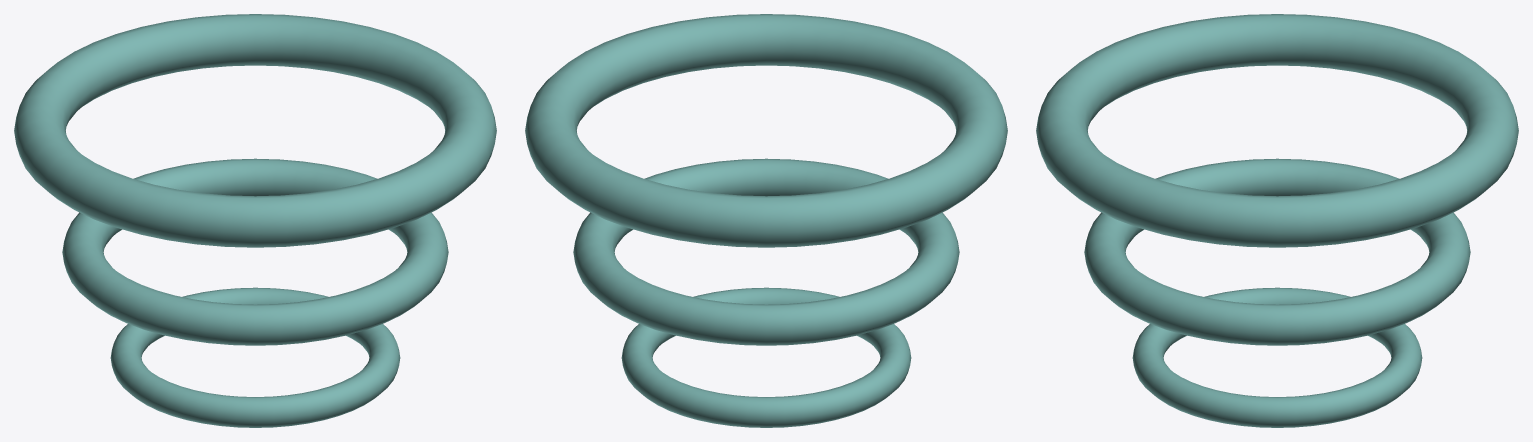
Rendered from robotRings.fbx.
3 renders of one model, left to right at view 1: azimuth 30°, elevation 25°; view 2: azimuth 150°, elevation 25°; view 3: azimuth 270°, elevation 25°, orthographic.
Parts seen in each view (by area): view 1: Robot Rings; view 2: Robot Rings; view 3: Robot Rings.
Boxes of the visible parts, x1=… form: Robot Rings: x1=14, y1=14, x2=496, y2=427; Robot Rings: x1=525, y1=14, x2=1007, y2=427; Robot Rings: x1=1036, y1=14, x2=1518, y2=427.
Bounding box in the file's own units: 16.18 × 16.18 × 9.78.
